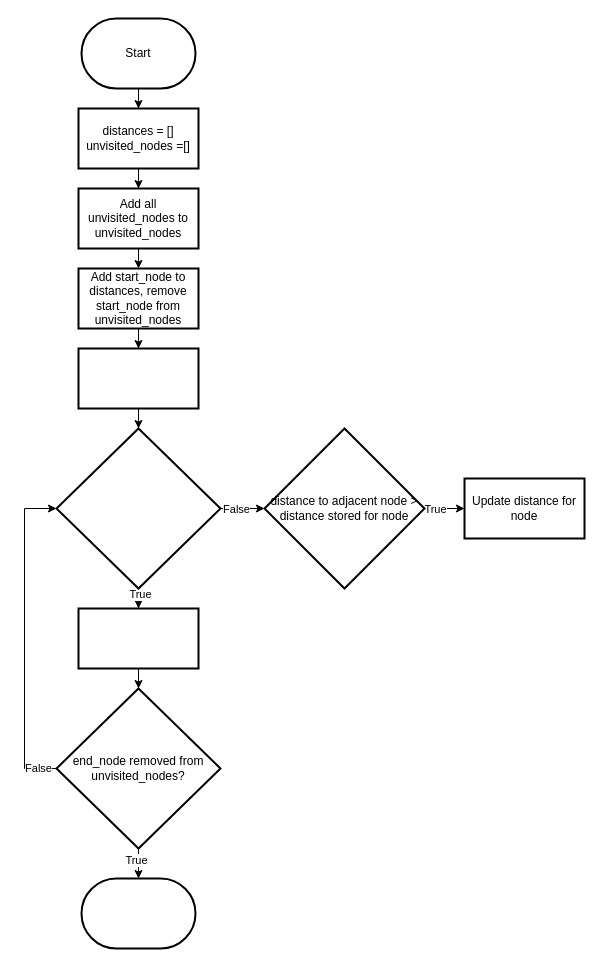
Image size: 603x966. Some labels were removed from this diagram. The centre of each missing label's shape, as x and y in pixels:
Add null to distances for all other nodes: point (138, 378)
Checked all adjacent nodes?: point (138, 508)
End: point (138, 913)
Remove adjacent node with lowest distance from unvisited_nodes: point (138, 638)
